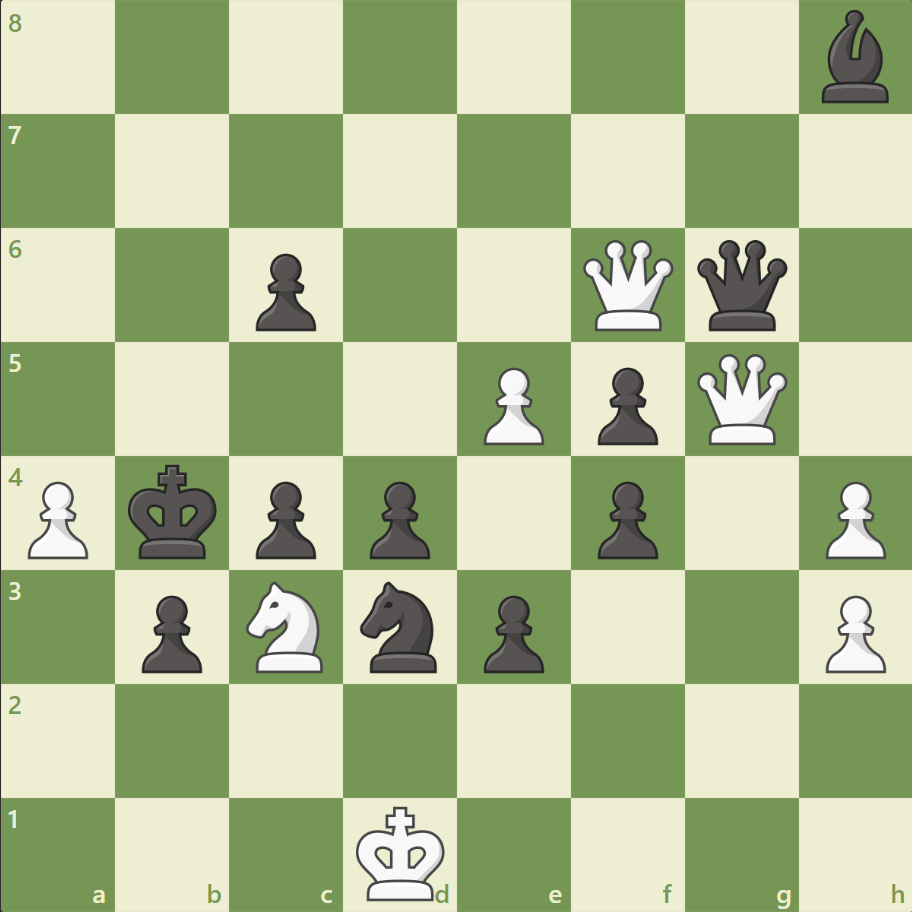K: (351, 798, 451, 906)
N: (238, 575, 335, 677)
P: (474, 359, 549, 450), (20, 473, 95, 564), (815, 473, 889, 564), (815, 586, 889, 677)
Q: (691, 349, 790, 449), (578, 236, 677, 335)
b: (812, 6, 896, 109)
k: (124, 458, 224, 566)
n: (351, 575, 449, 677)
p: (247, 246, 322, 337), (247, 473, 322, 564), (133, 586, 208, 677), (474, 586, 549, 677), (588, 359, 662, 450), (361, 473, 435, 564), (588, 473, 662, 564)
q: (691, 236, 790, 335)
